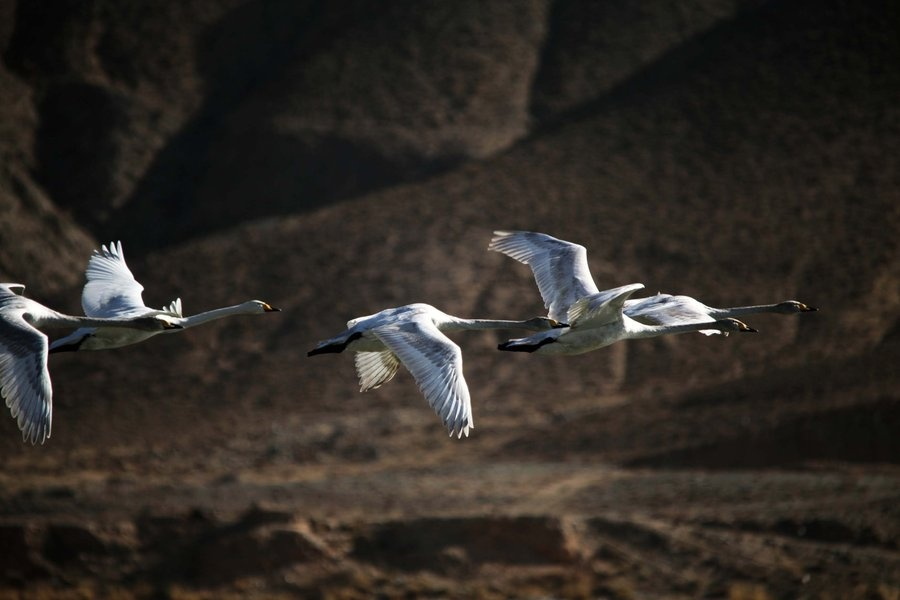bird: (477, 224, 816, 348), (302, 298, 569, 439), (1, 274, 187, 446), (69, 244, 285, 334)
